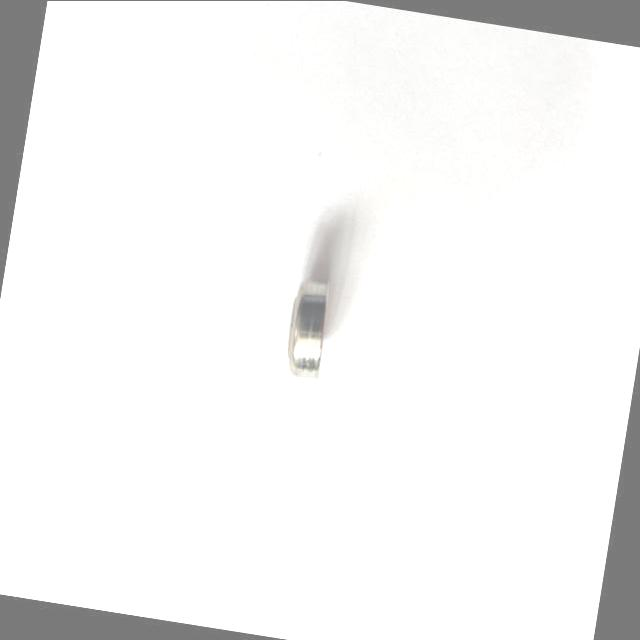COIN: (272, 272, 339, 386)
